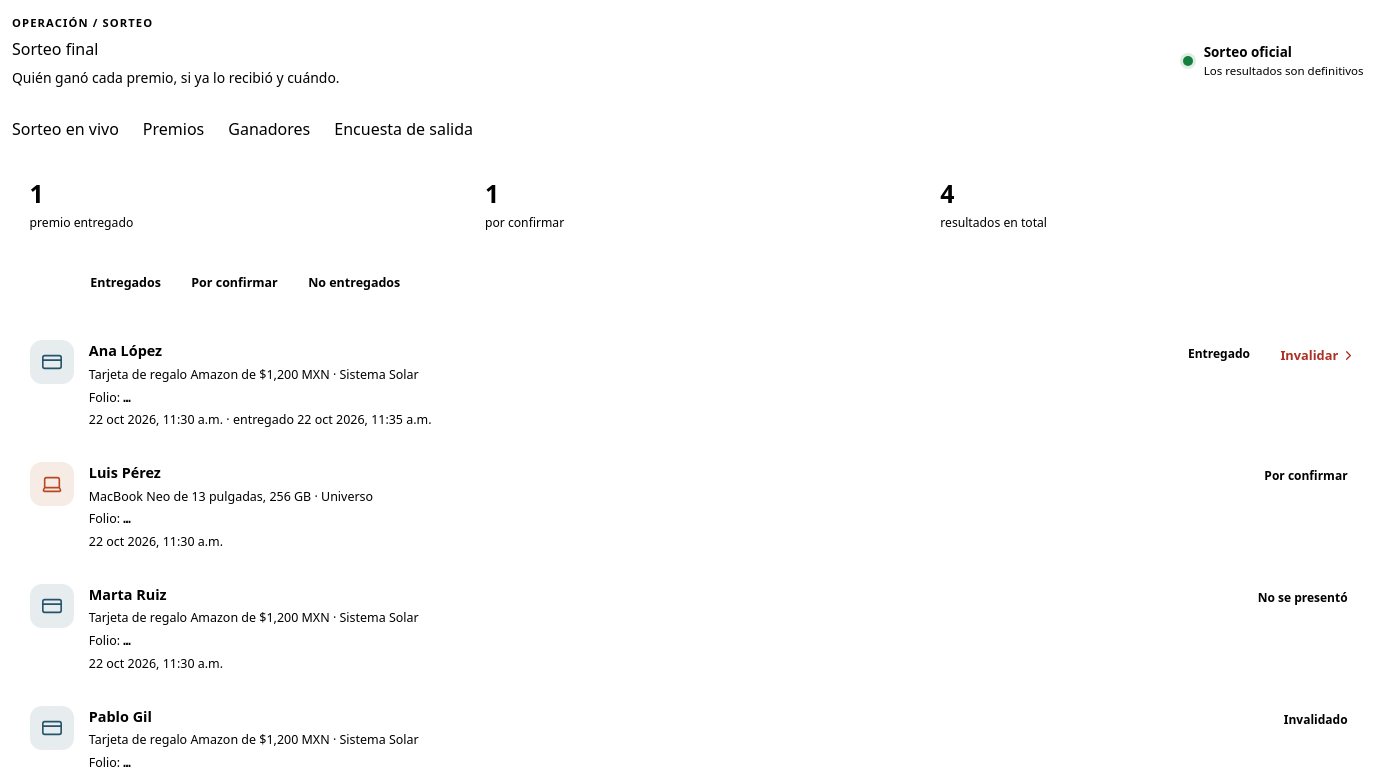
Test case: filters in plain groups and says so when nothing matches
Expected: the text "Ana López" is shown, x1=89 y1=341 x2=162 y2=360
Step 1. Click the button "No entregados" → (354, 283), box x1=296 y1=266 x2=412 y2=300
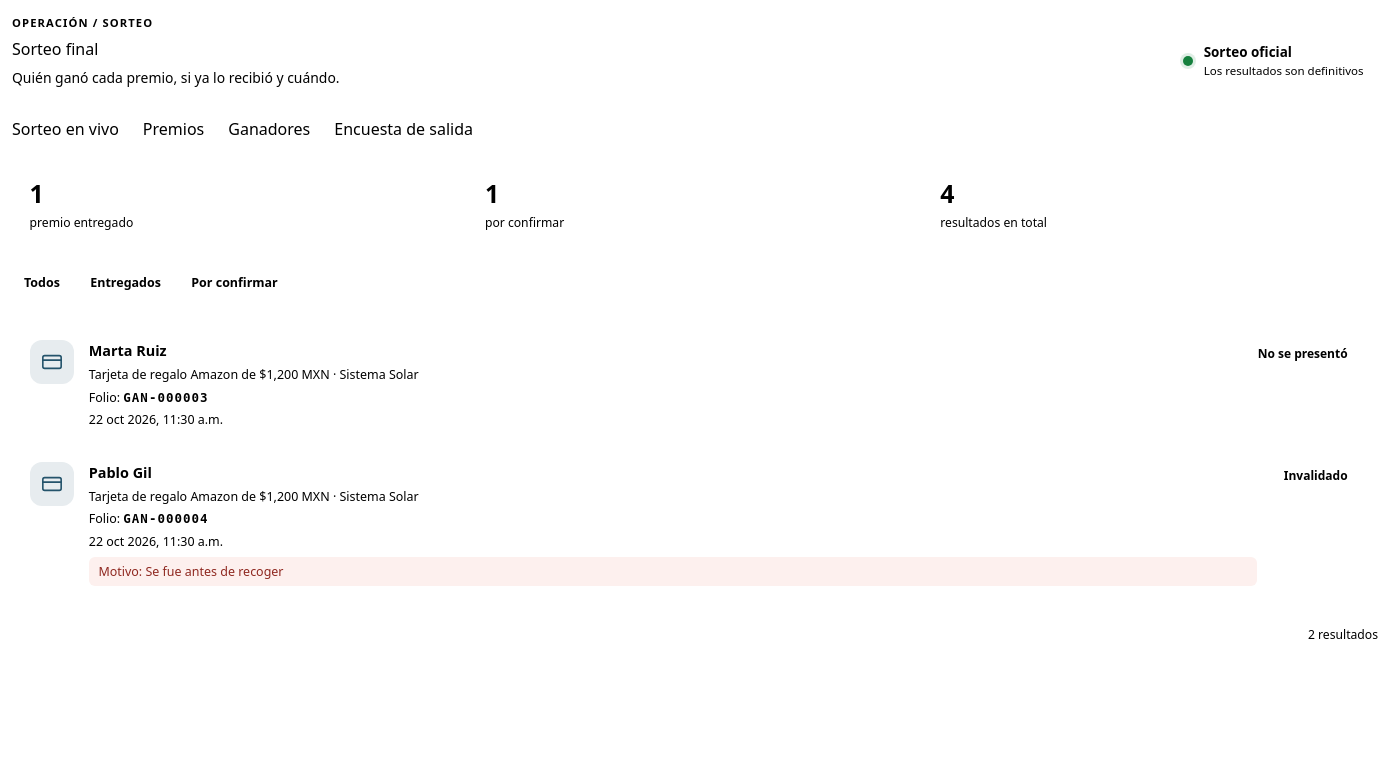
Expected: the text "Pablo Gil" is shown, x1=89 y1=463 x2=152 y2=482
Expected: the text "Ana López" is gone
Step 2. Click the button "Por confirmar" → (235, 283), box x1=179 y1=266 x2=290 y2=300
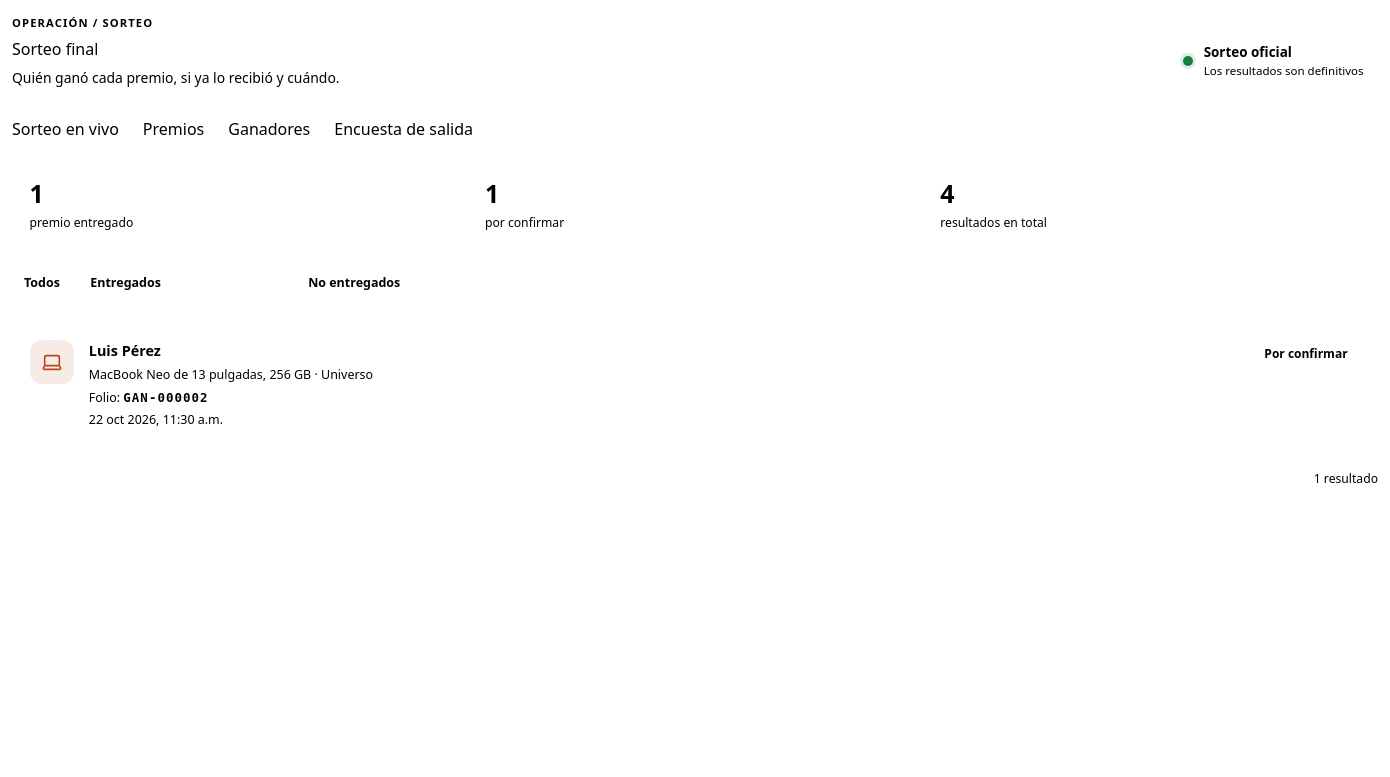
Expected: the text "Luis Pérez" is shown, x1=89 y1=341 x2=161 y2=360
Expected: the text "Marta Ruiz" is gone
